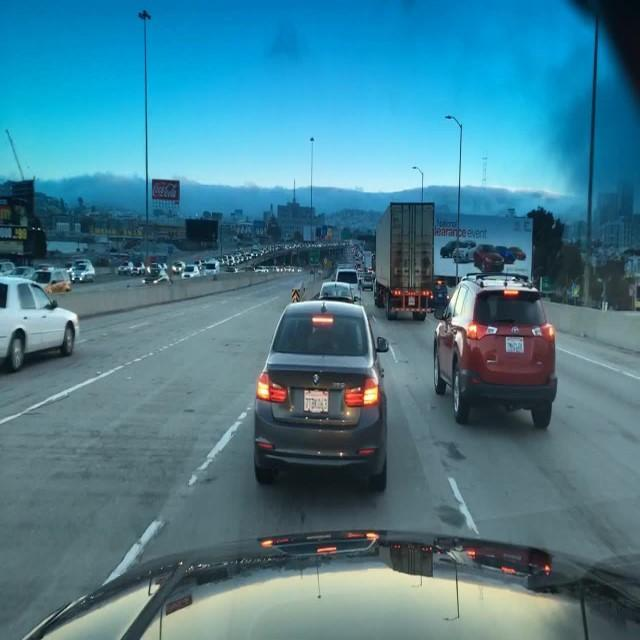normal: (252, 297, 389, 495), (432, 277, 560, 432)
